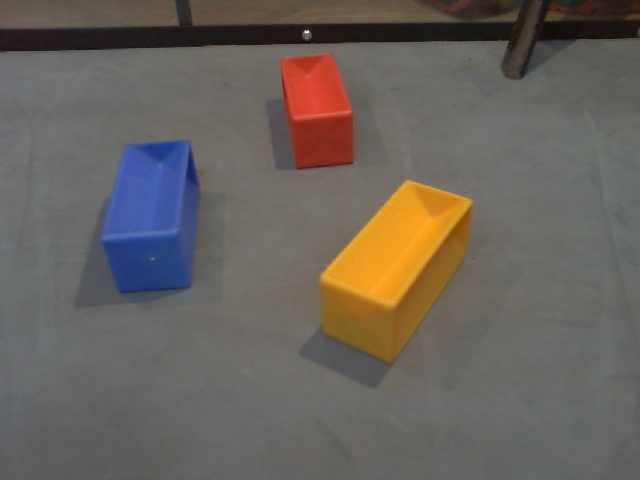BlueSample: (97, 138, 203, 295)
RedSample: (276, 49, 360, 175)
YellowSample: (313, 177, 475, 365)
